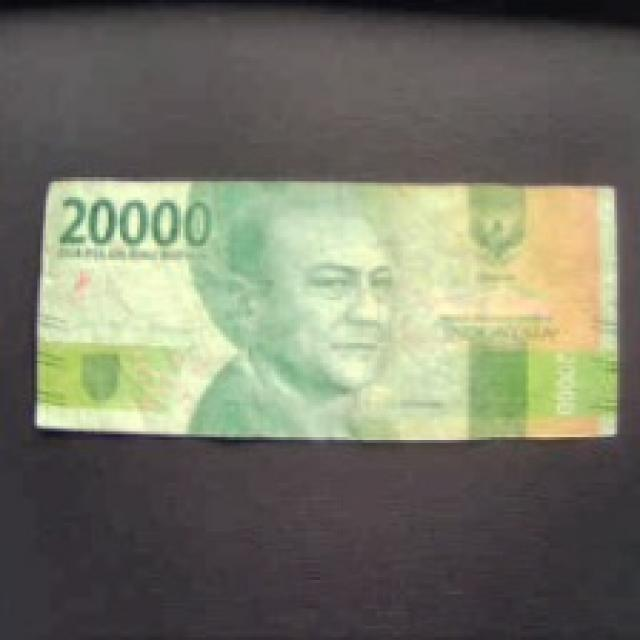dua puluh ribu rupiah: (7, 148, 640, 474)
